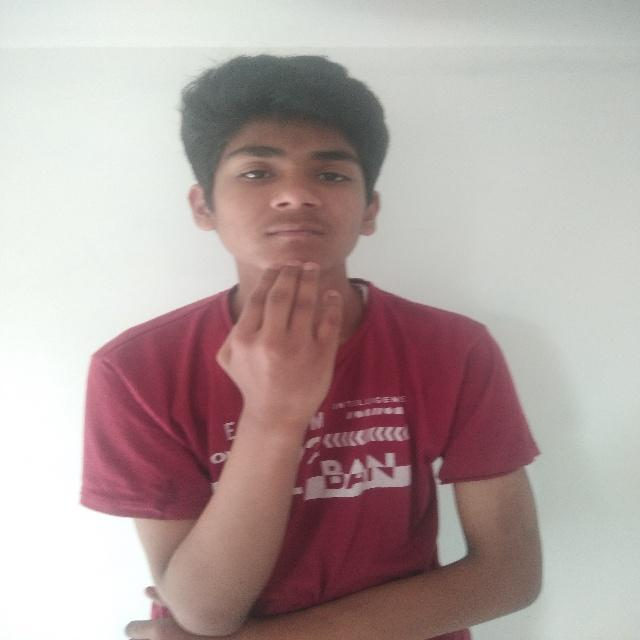Chin Flick: (159, 44, 413, 424)
